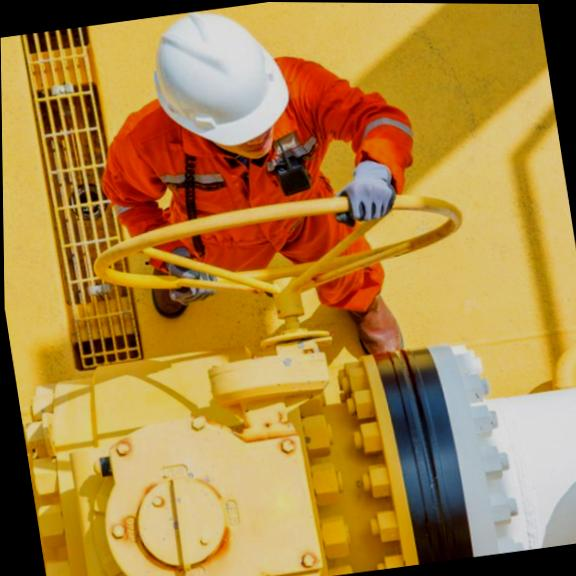safety_vest: (103, 72, 426, 389)
